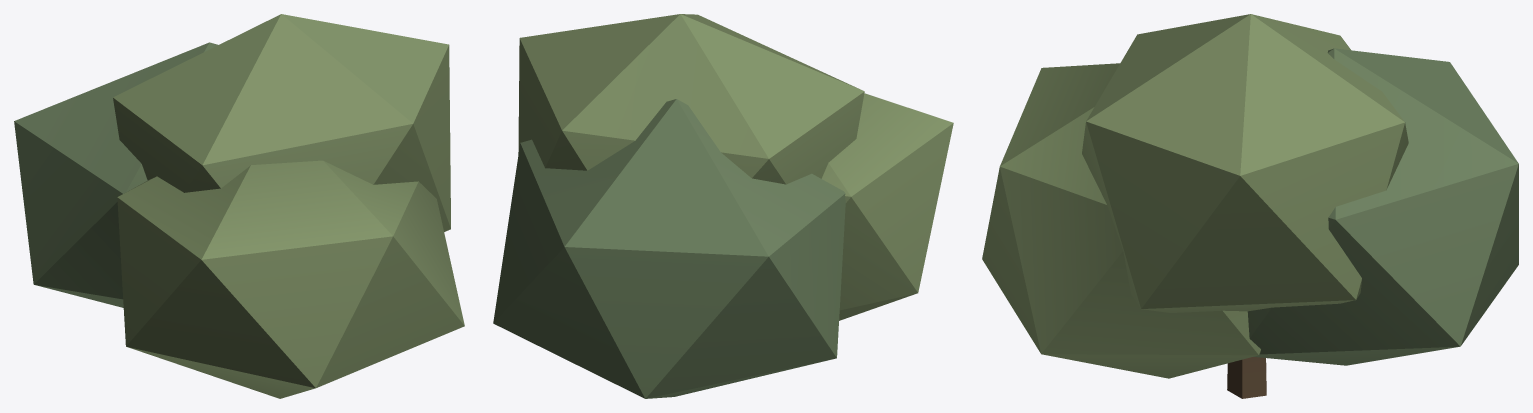
The model's file is shrub.glb.
3 renders of one model, left to right at view 1: azimuth 30°, elevation 25°; view 2: azimuth 150°, elevation 25°; view 3: azimuth 270°, elevation 25°, orthographic. The views are drawn at different scales.
Visible parts, largest first — view 1: shrub; view 2: shrub; view 3: shrub.
Boxes of the visible parts, x1,y1,x2,y2 form: shrub: (14, 14, 464, 398); shrub: (493, 14, 953, 398); shrub: (982, 14, 1518, 398).
Size of the model in its own units: 0.6399 by 0.5853 by 0.7391.
